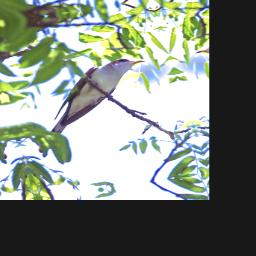Cuckoo: (13, 54, 170, 154)
